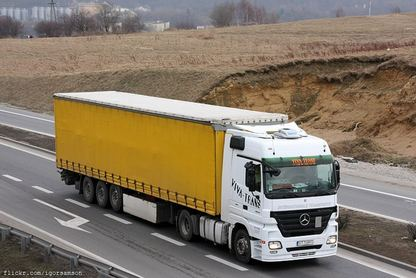truck: (62, 92, 344, 264)
